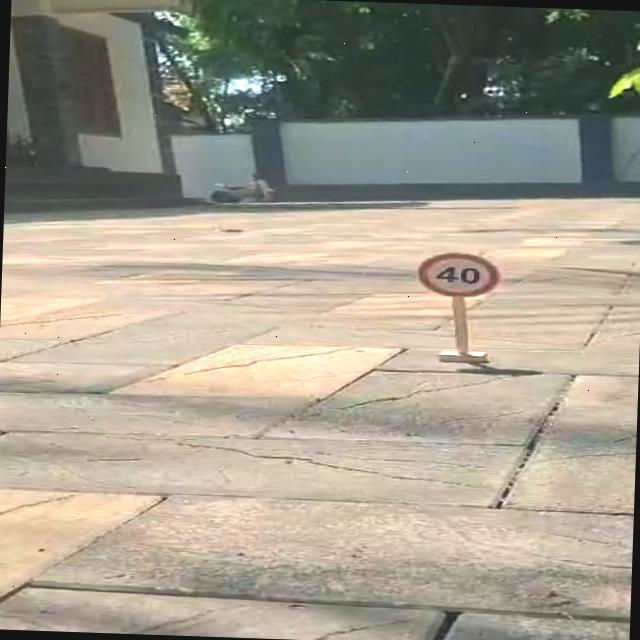Speed40: (412, 249, 506, 301)
